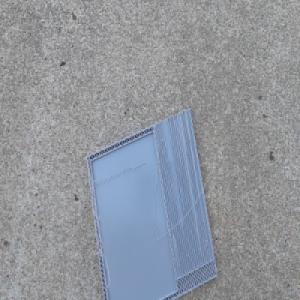PlasticPart: (84, 106, 219, 299)
